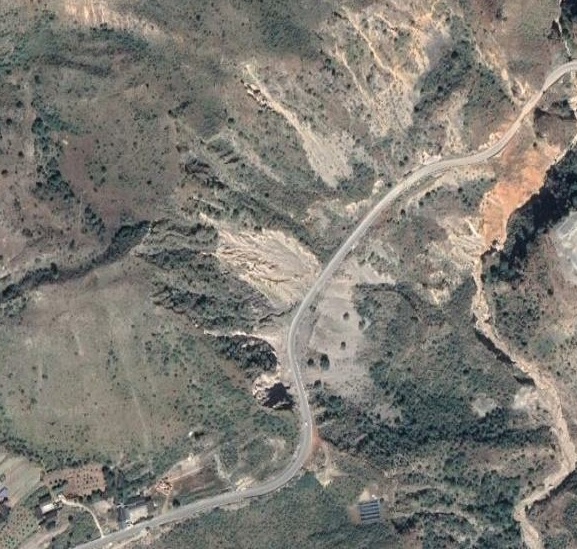slope: (242, 1, 454, 188), (395, 107, 563, 255), (413, 36, 535, 164), (192, 207, 322, 315), (202, 323, 297, 407), (508, 381, 562, 430)
